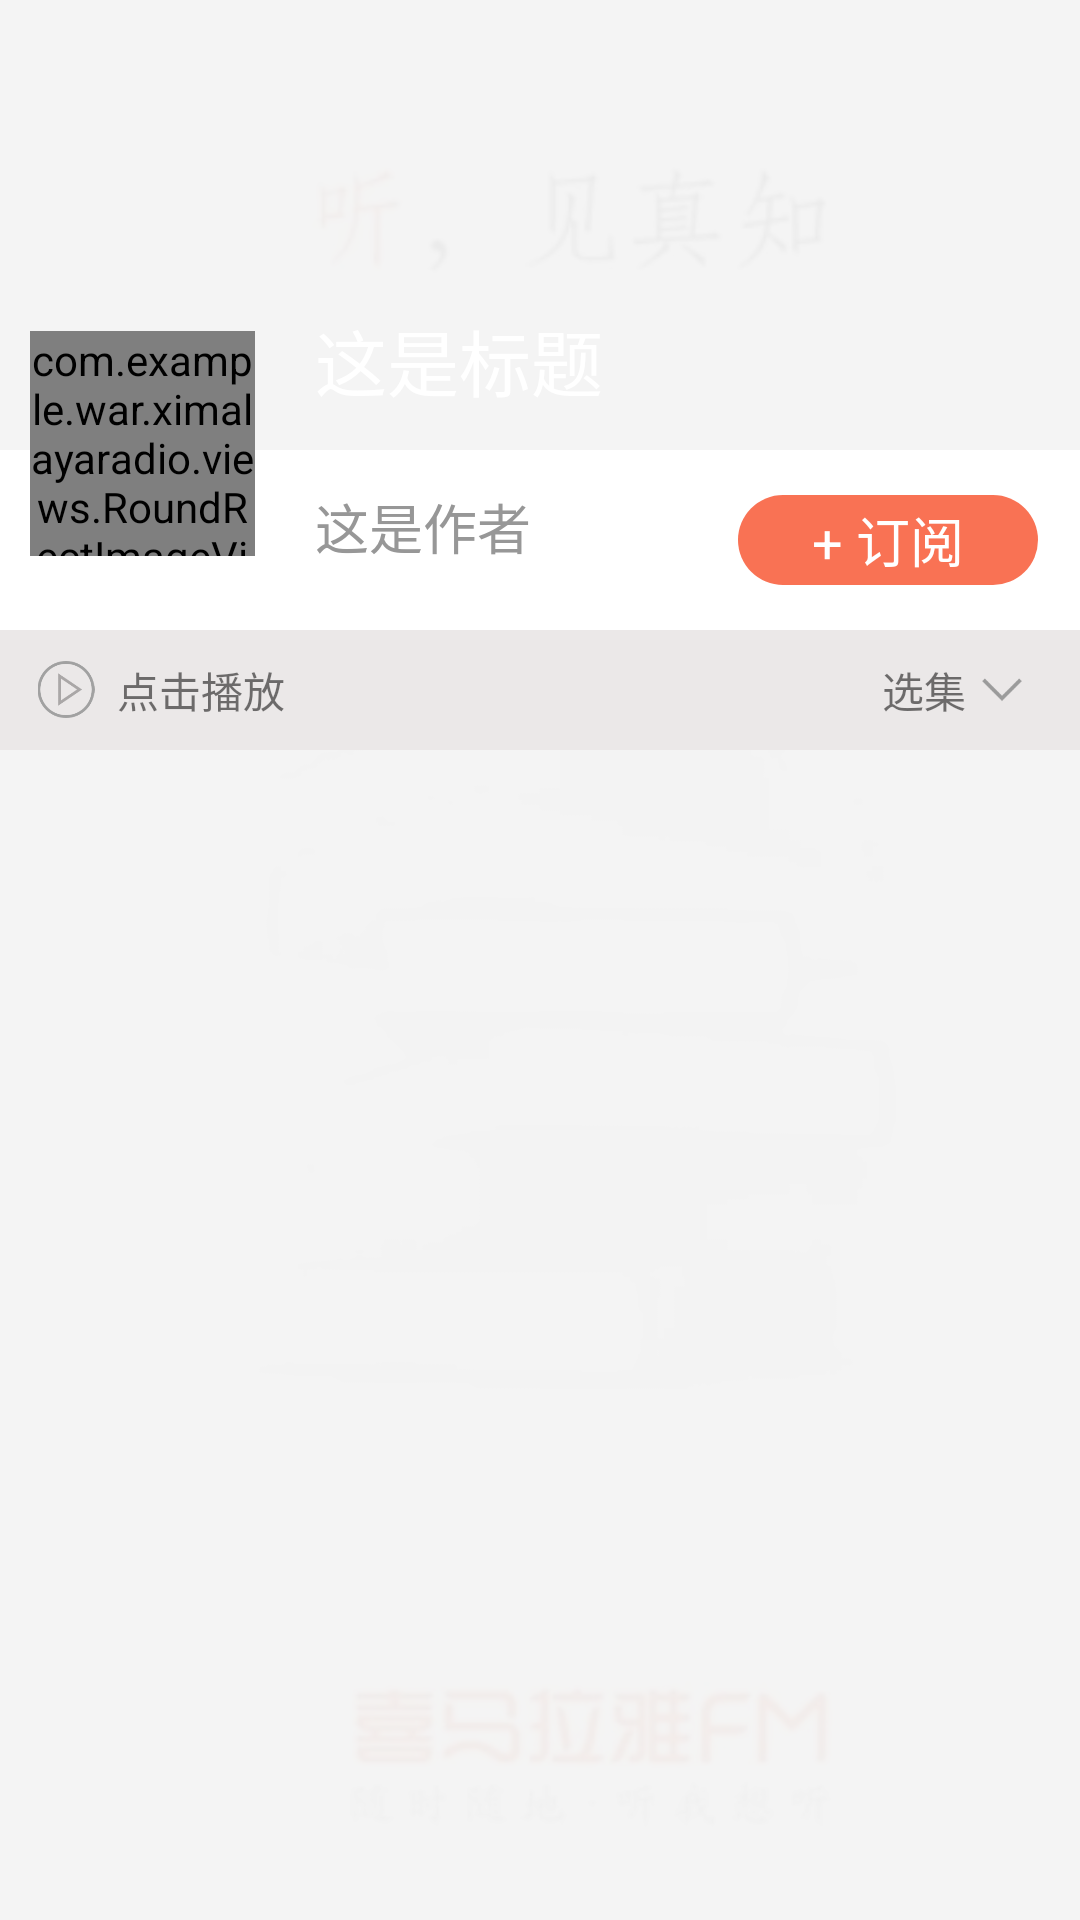

Locate icon controls on the screen. Image size 1080×1920, boxes as region(x1, y1, x2, y2).
play: region(38, 661, 95, 718)
